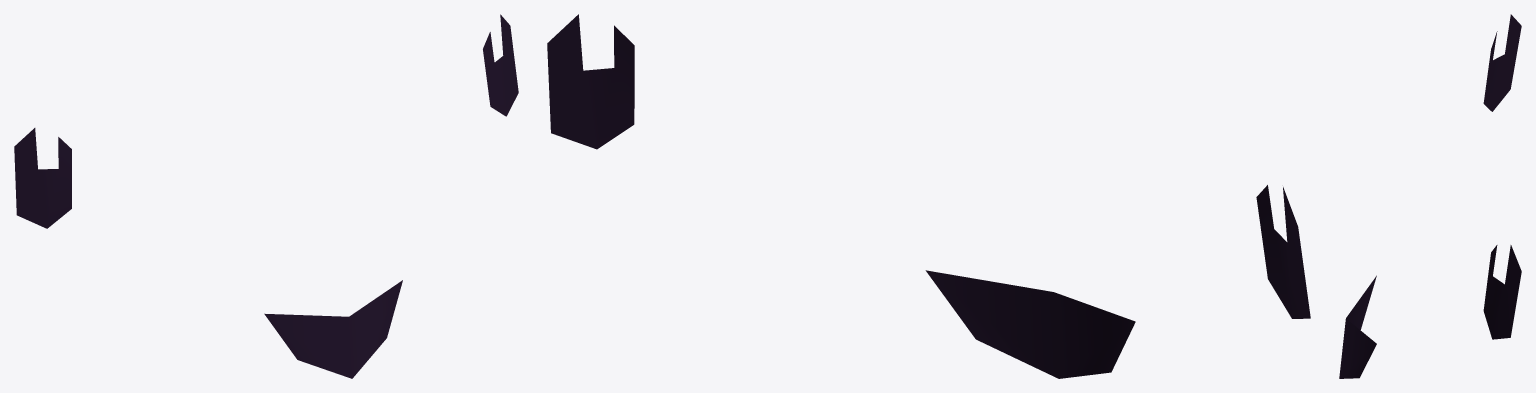
3 views of the same model, side by side, from view 1: azimuth 30°, elevation 25°; view 2: azimuth 150°, elevation 25°; view 3: azimuth 270°, elevation 25° (orthographic). The views are drawn at different scales.
Visible parts, largest first — view 1: _face_01; view 2: _face_01; view 3: _face_01.
Boxes of the visible parts, bbox=[...] form: _face_01: bbox=[14, 14, 518, 378]; _face_01: bbox=[547, 14, 1310, 378]; _face_01: bbox=[1339, 14, 1521, 378].
Bounding box in the file's own units: 0.5509 × 0.2583 × 0.171.
Materials: 1 (1 with a texture image).
